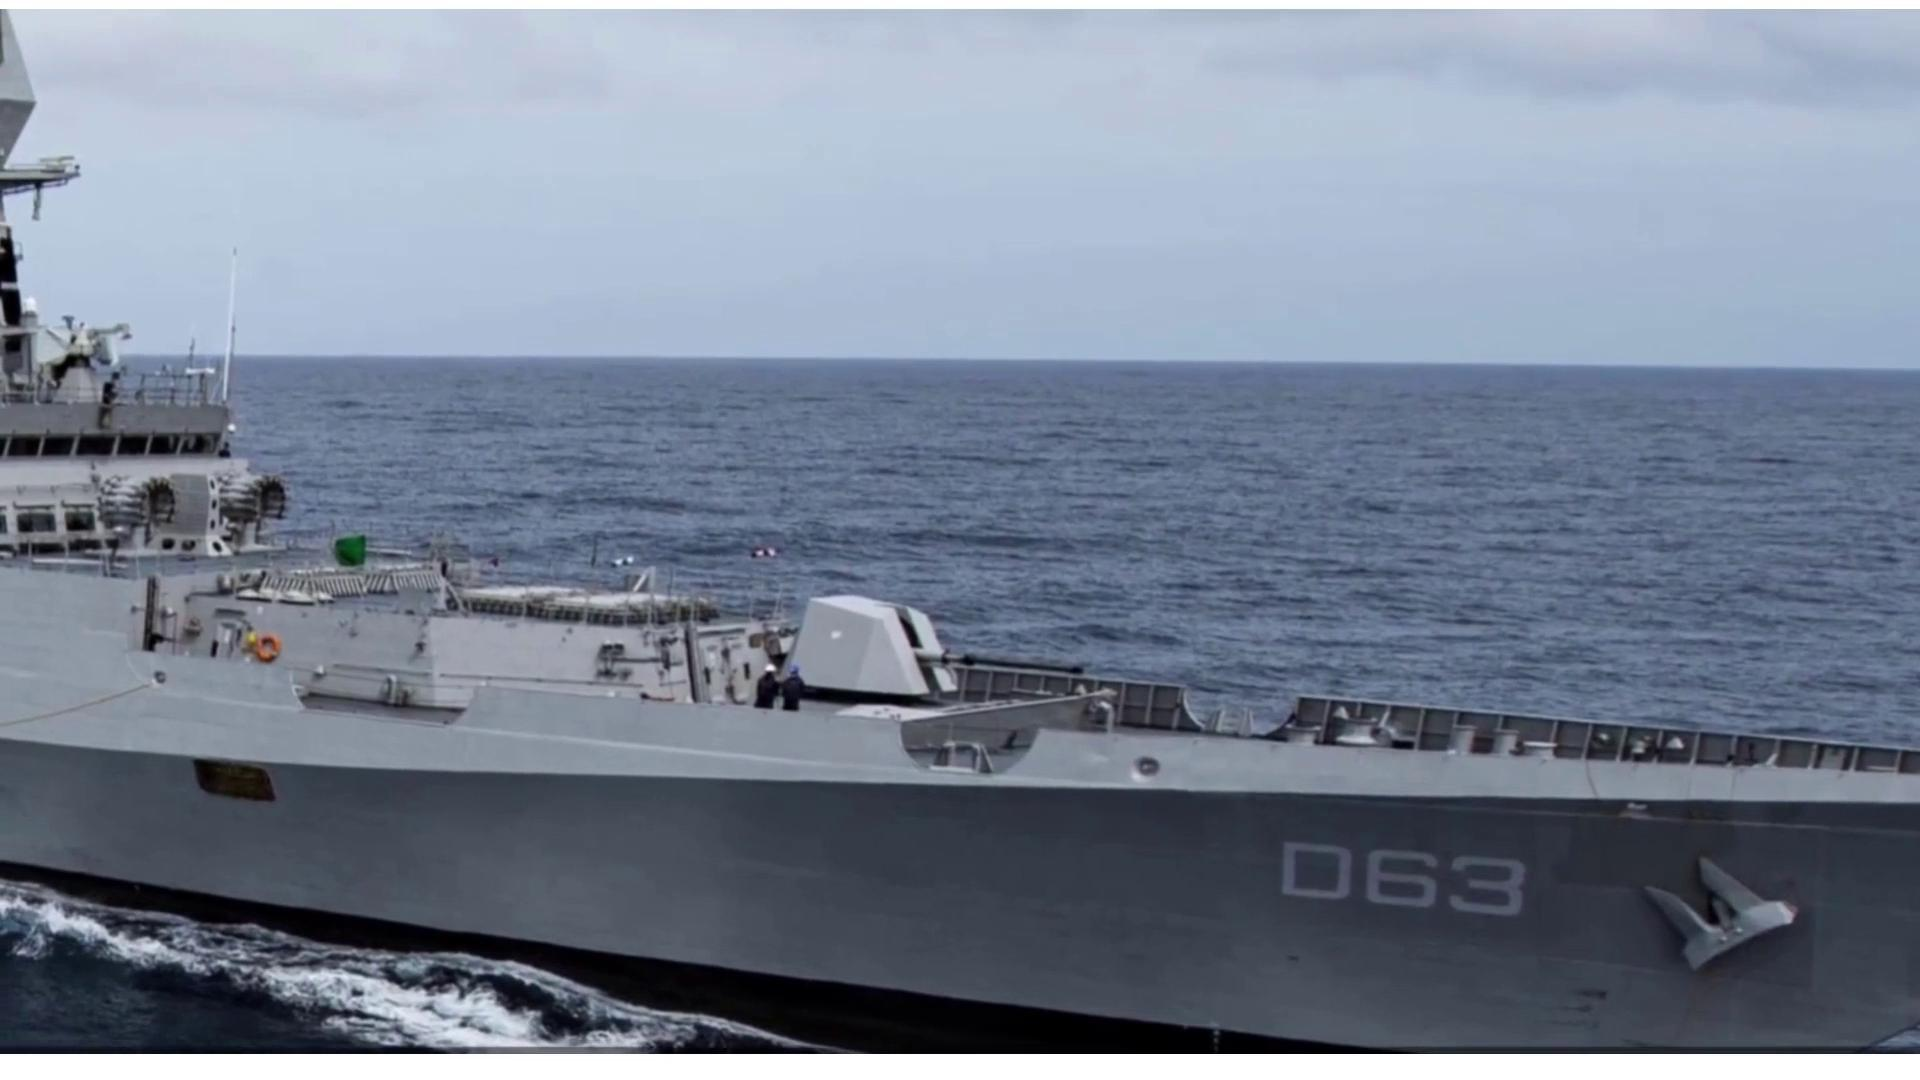OCR: (1269, 839, 1527, 926)
